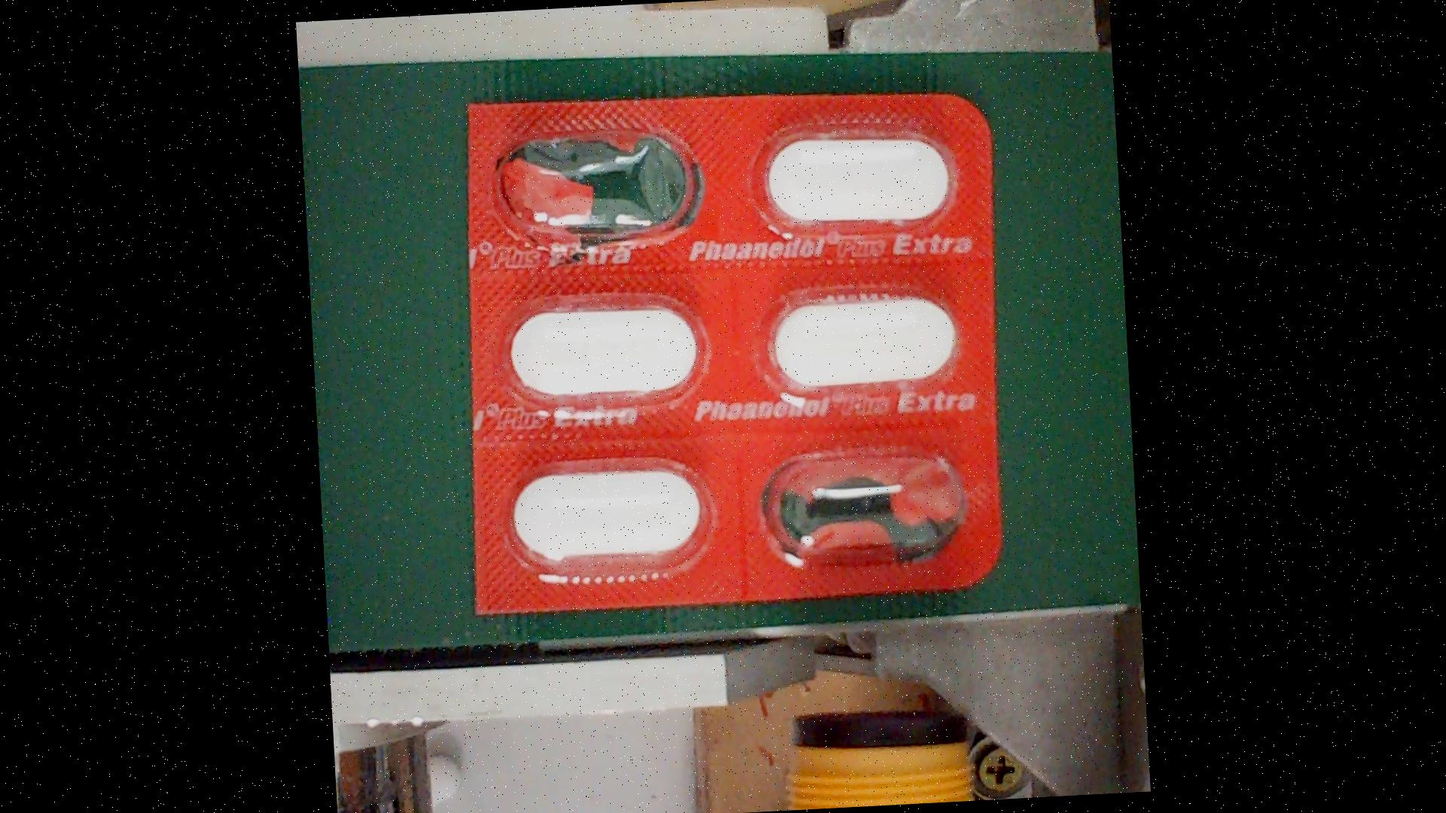Empty: (752, 444, 970, 572), (486, 121, 704, 249)
Full: (750, 274, 968, 402), (495, 283, 713, 411), (750, 110, 968, 237), (496, 443, 714, 570)
